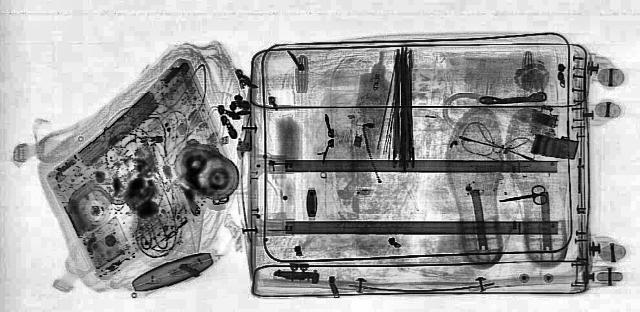Scissors: (489, 184, 556, 210)
